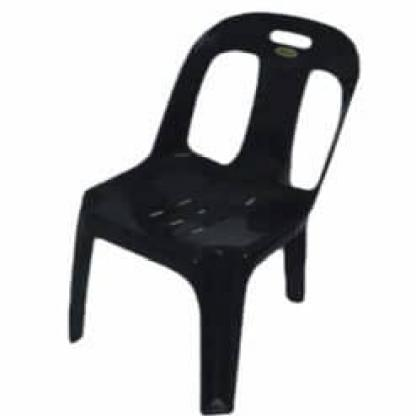chair: (71, 11, 364, 415)
